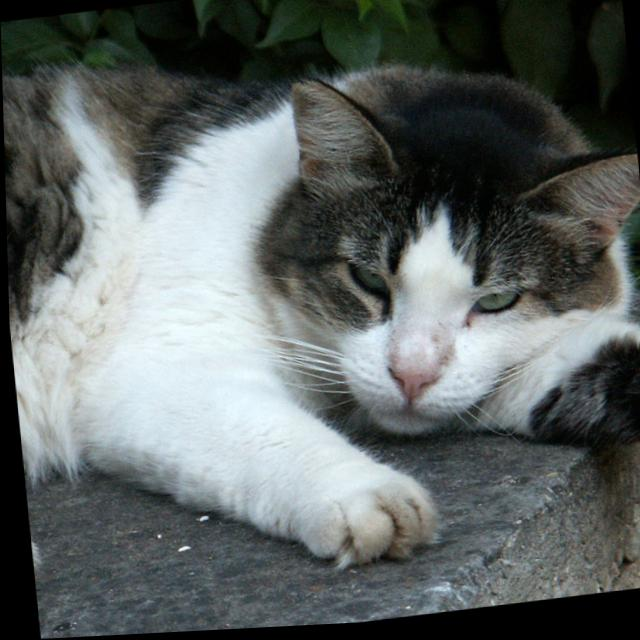animals: (291, 46, 640, 412)
